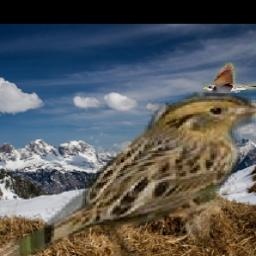Cuckoo: (203, 63, 256, 94)
Sparrow: (0, 93, 256, 256)
